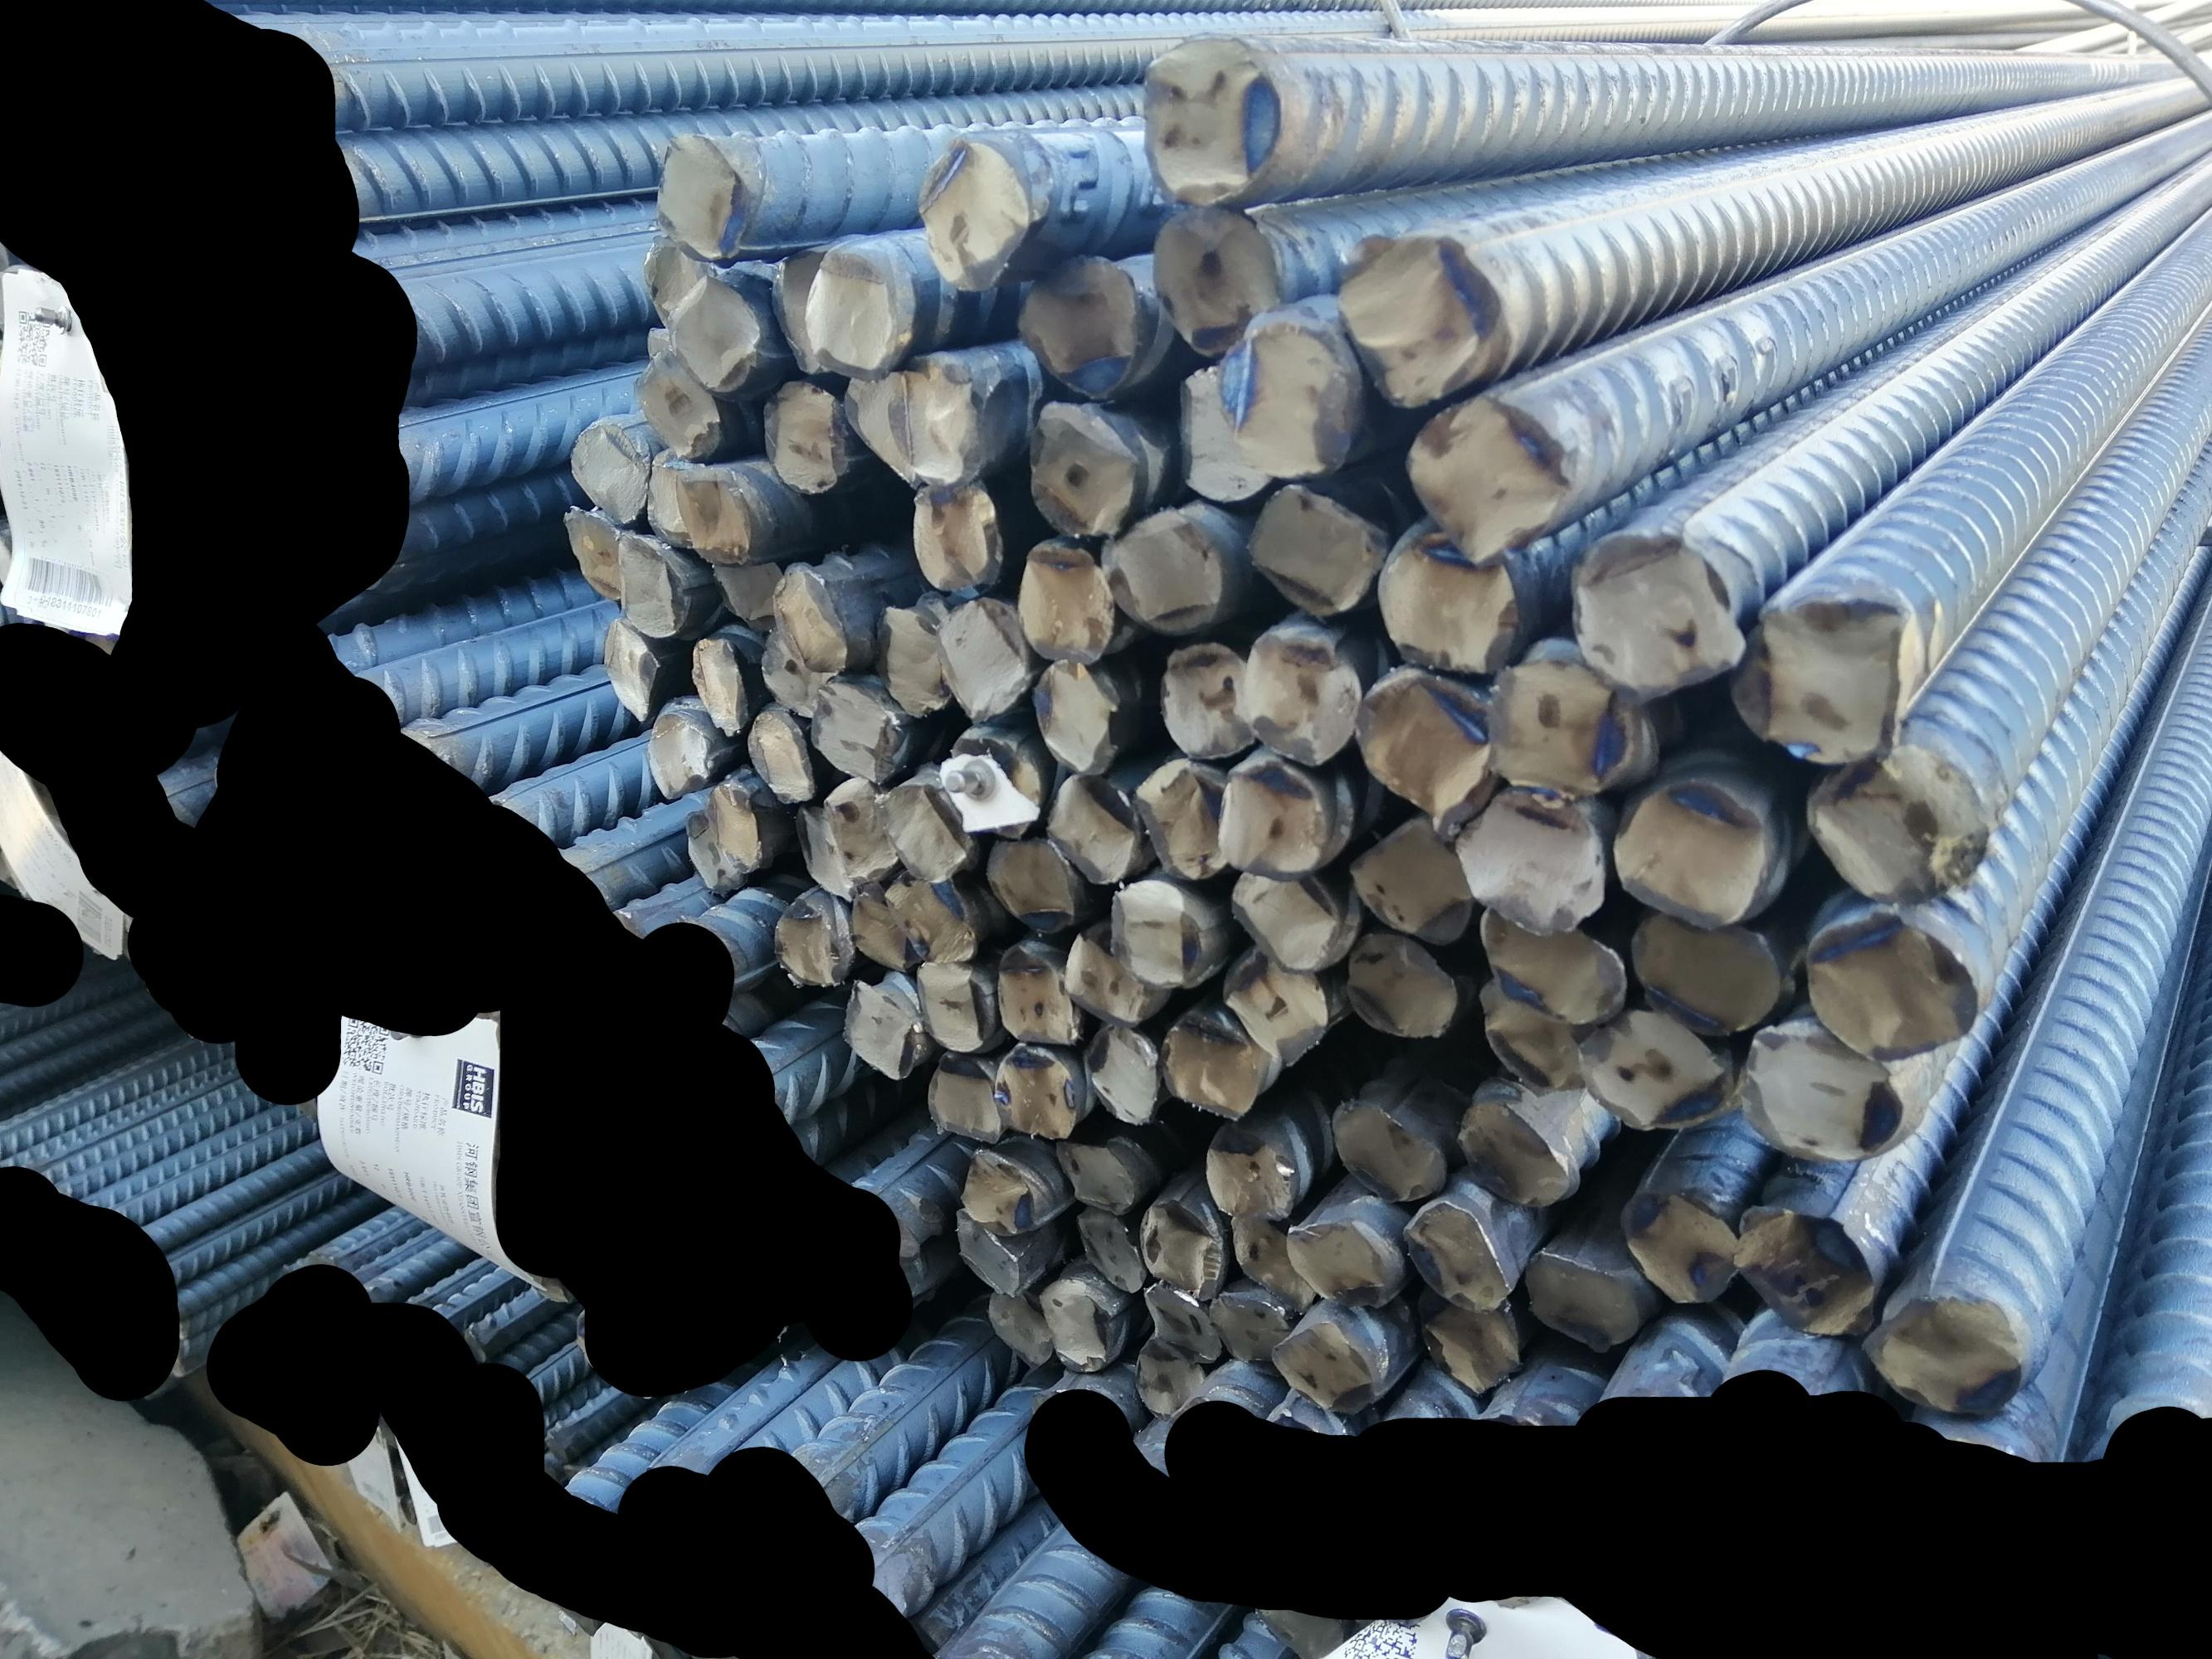bar: (1720, 594, 1919, 765), (1330, 227, 1503, 416), (1565, 532, 1748, 708), (1801, 746, 1992, 906), (1400, 392, 1564, 568), (1607, 774, 1783, 927), (1138, 33, 1283, 211), (1808, 910, 1978, 1060), (1485, 652, 1644, 812), (1211, 305, 1354, 483), (1351, 664, 1497, 833), (1736, 1019, 1902, 1162), (1447, 793, 1611, 936), (1860, 1281, 2024, 1424), (1372, 528, 1518, 676), (1145, 204, 1283, 361), (1625, 903, 1781, 1037), (1733, 1201, 1879, 1338), (1574, 1002, 1729, 1131), (912, 136, 1037, 295), (1020, 247, 1140, 403), (1232, 622, 1360, 769), (1480, 901, 1628, 1025), (1248, 484, 1379, 619), (1344, 814, 1469, 951), (1621, 1185, 1747, 1309), (1098, 512, 1222, 636), (1217, 756, 1337, 882), (1027, 397, 1135, 537), (1452, 1096, 1583, 1209), (1173, 362, 1272, 505), (899, 472, 1013, 596), (1222, 941, 1332, 1068), (802, 242, 899, 382), (1330, 1094, 1454, 1204), (1525, 1239, 1642, 1354), (1398, 1199, 1517, 1312), (1417, 1276, 1529, 1396), (648, 129, 748, 263), (934, 594, 1034, 725), (1154, 638, 1259, 762), (1103, 875, 1210, 995), (1013, 538, 1114, 664), (1157, 1006, 1262, 1124), (1346, 931, 1457, 1040), (1229, 864, 1342, 972), (1286, 1209, 1405, 1312), (664, 274, 765, 394), (1476, 974, 1579, 1091), (1133, 753, 1227, 880), (760, 375, 854, 497), (1044, 763, 1137, 887), (894, 354, 978, 488), (1032, 653, 1123, 777), (1267, 1314, 1377, 1415), (634, 345, 725, 464), (1224, 1206, 1323, 1314), (947, 727, 1041, 840), (990, 936, 1081, 1051), (802, 674, 896, 784), (981, 831, 1079, 936), (1203, 1117, 1300, 1222), (1138, 1192, 1225, 1304), (838, 366, 917, 490), (769, 244, 842, 376), (872, 781, 964, 885), (1034, 1265, 1119, 1375), (872, 603, 952, 718), (884, 870, 978, 967), (908, 951, 995, 1056), (837, 974, 922, 1079), (1081, 1019, 1159, 1133), (675, 458, 757, 565), (992, 1042, 1079, 1141), (565, 416, 643, 526), (608, 528, 687, 638), (919, 1044, 1004, 1143), (769, 566, 847, 673), (1062, 927, 1143, 1028), (823, 772, 896, 882), (1135, 1276, 1224, 1364), (772, 894, 851, 992), (640, 230, 716, 329), (640, 443, 711, 549), (1049, 1133, 1140, 1216), (741, 706, 816, 805), (960, 1143, 1037, 1236), (1074, 1204, 1150, 1297), (788, 798, 858, 899), (708, 549, 790, 634), (689, 634, 757, 737), (840, 878, 917, 969), (1206, 1288, 1293, 1366), (645, 706, 713, 805), (950, 1202, 1021, 1297), (1130, 1333, 1206, 1420), (561, 504, 626, 601), (985, 1279, 1058, 1364), (601, 617, 659, 725), (682, 809, 751, 896), (758, 622, 823, 716), (706, 777, 769, 871), (643, 322, 671, 359)
